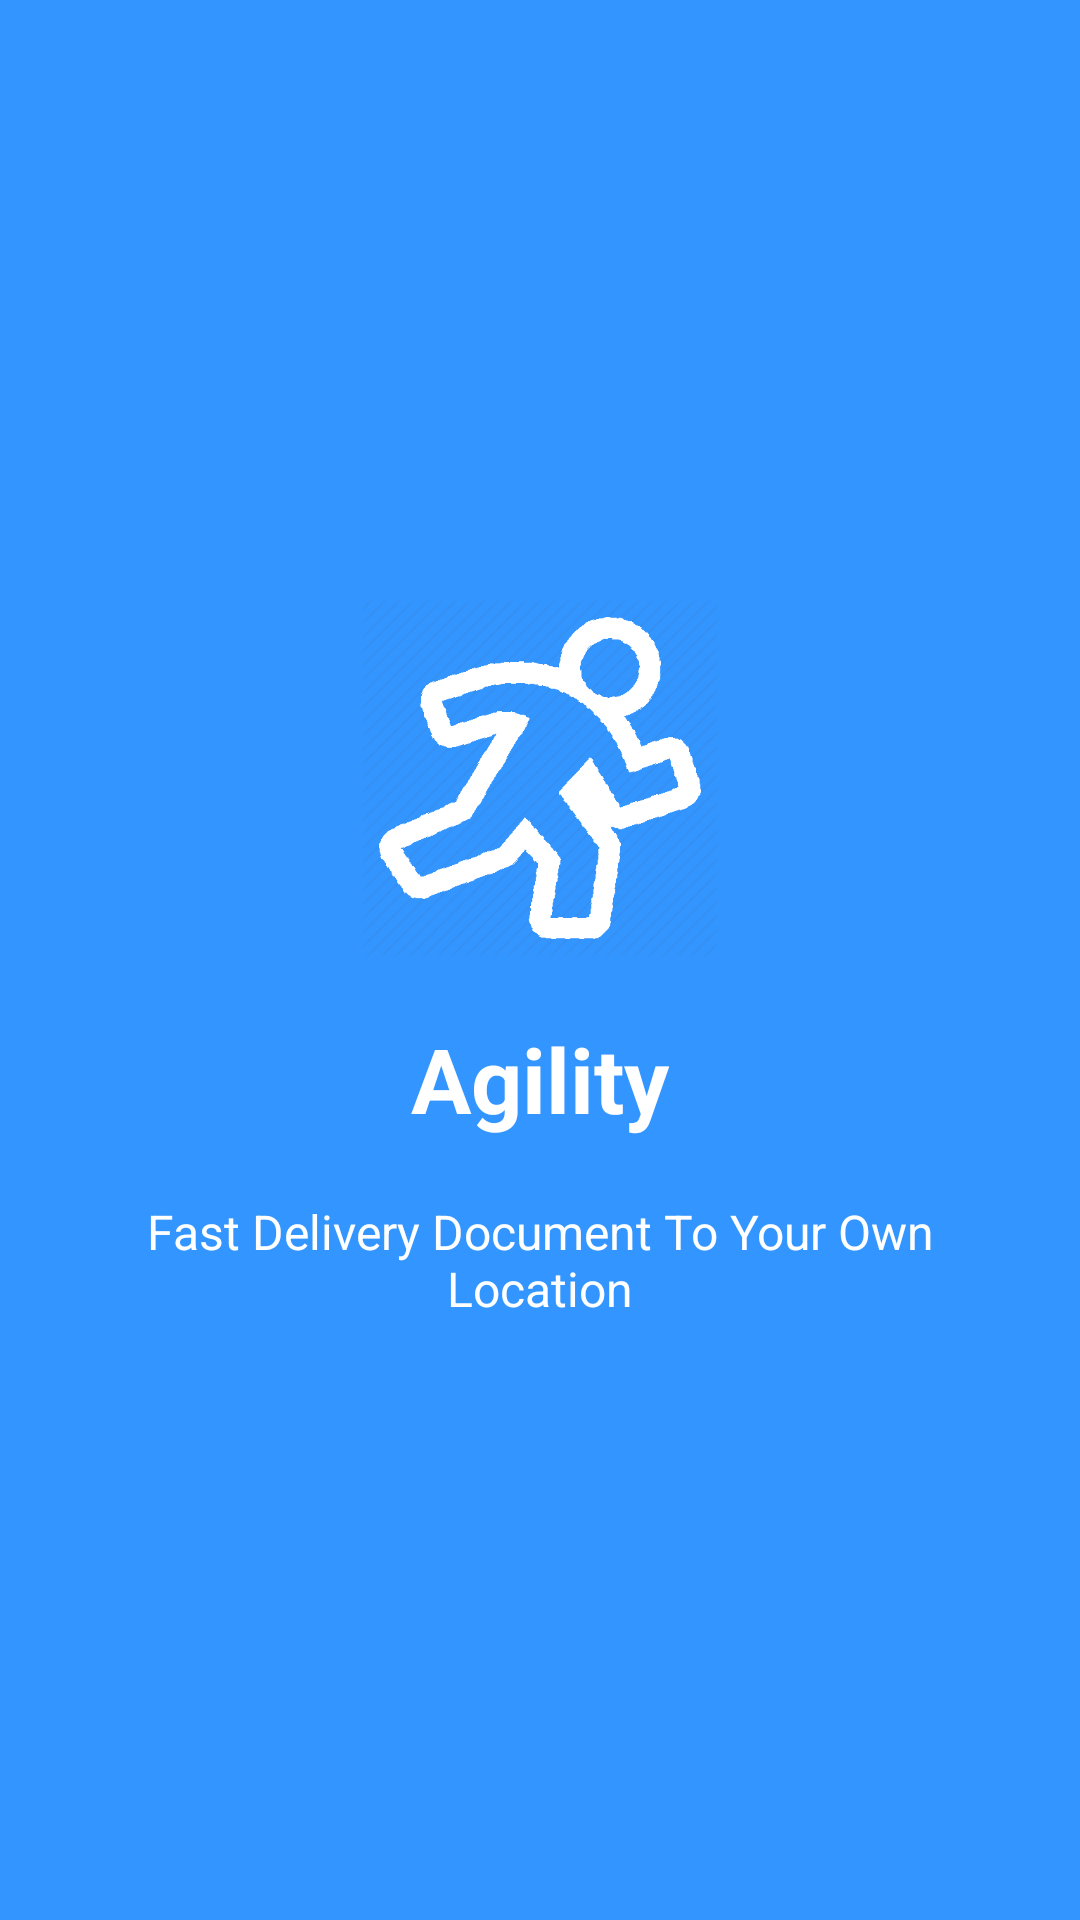

Icon bounding boxes for this 1080*1920 phone screenshot, format bbox(x1, y1, x2, y2):
run: bbox(379, 617, 701, 939)
